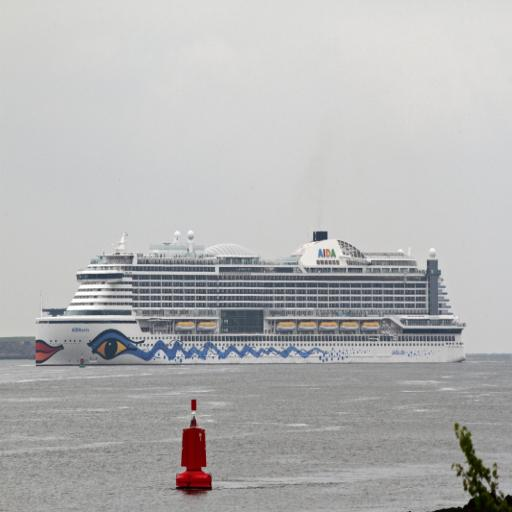cruises: (32, 225, 468, 373)
